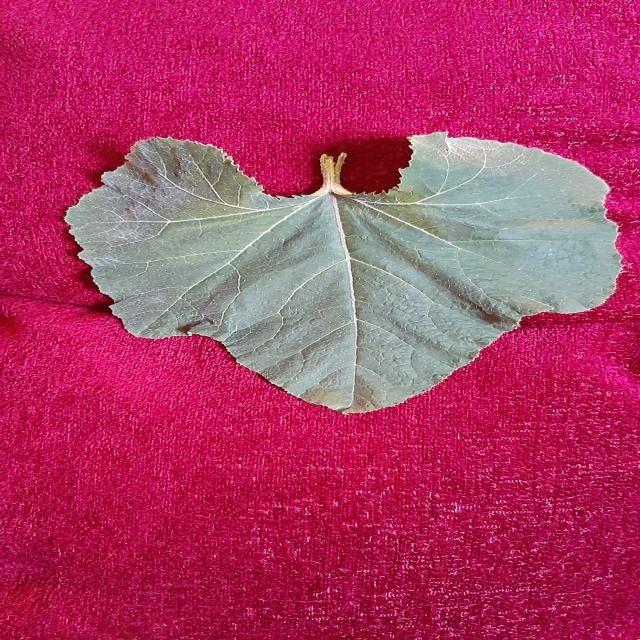pumpkin: (65, 132, 621, 412)
